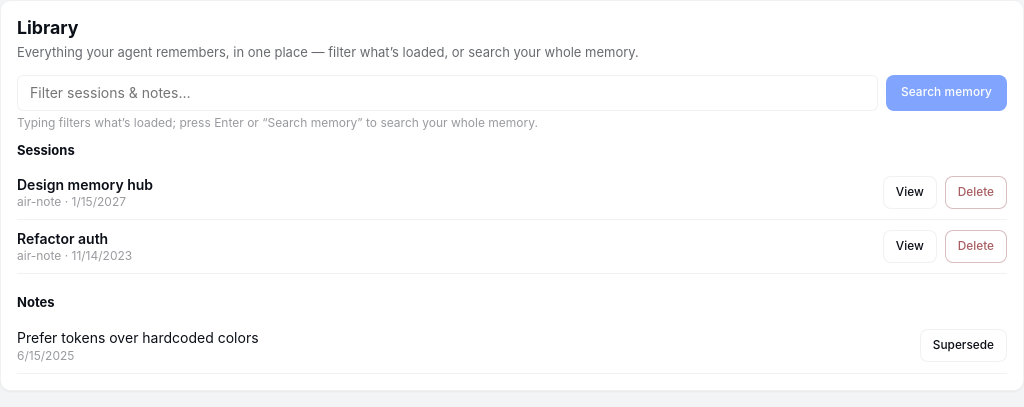
LibraryPanel › the search box filters sessions and notes client-side (case-insensitive)
Type "design" into the field named "Filter your library" at (447, 93), box [17,75,878,110]
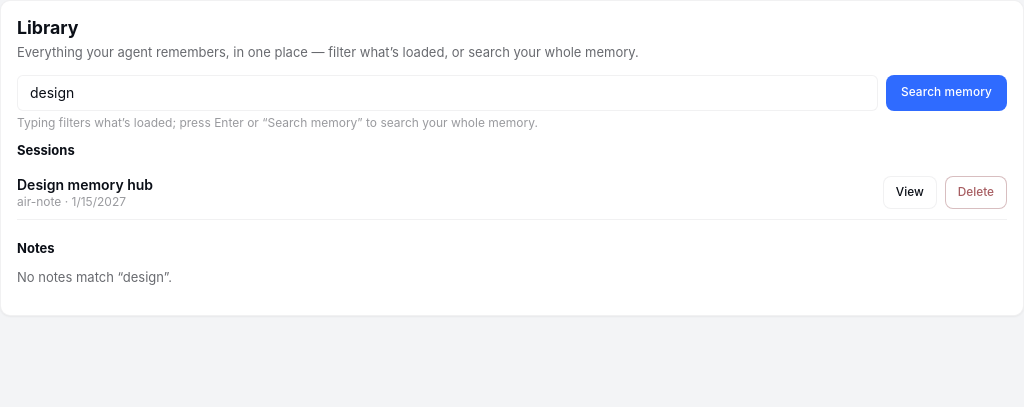
Expected: the text "Design memory hub" is shown, [17,176,153,194]
Now the text "Refactor auth" is gone
Now the text "Prefer tokens over hardcoded colors" is gone
Note: A note-text match keeps the note and hides both sessions — proving the filter spans both lists.
Replace the text in the field named "Filter your library" with "TOKENS" at (447, 93), box [17,75,878,110]
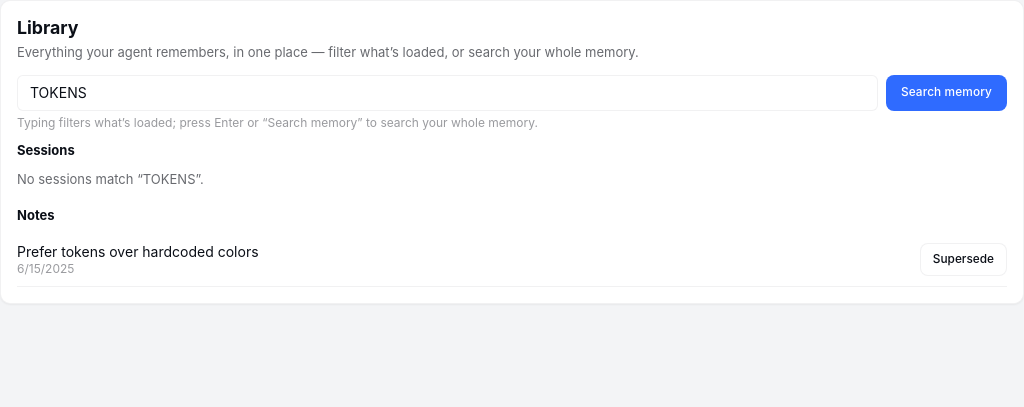
Expected: the text "Refactor auth" is not shown
Now the text "Prefer tokens over hardcoded colors" is shown, box [17,242,259,261]
Now the text "Design memory hub" is gone
